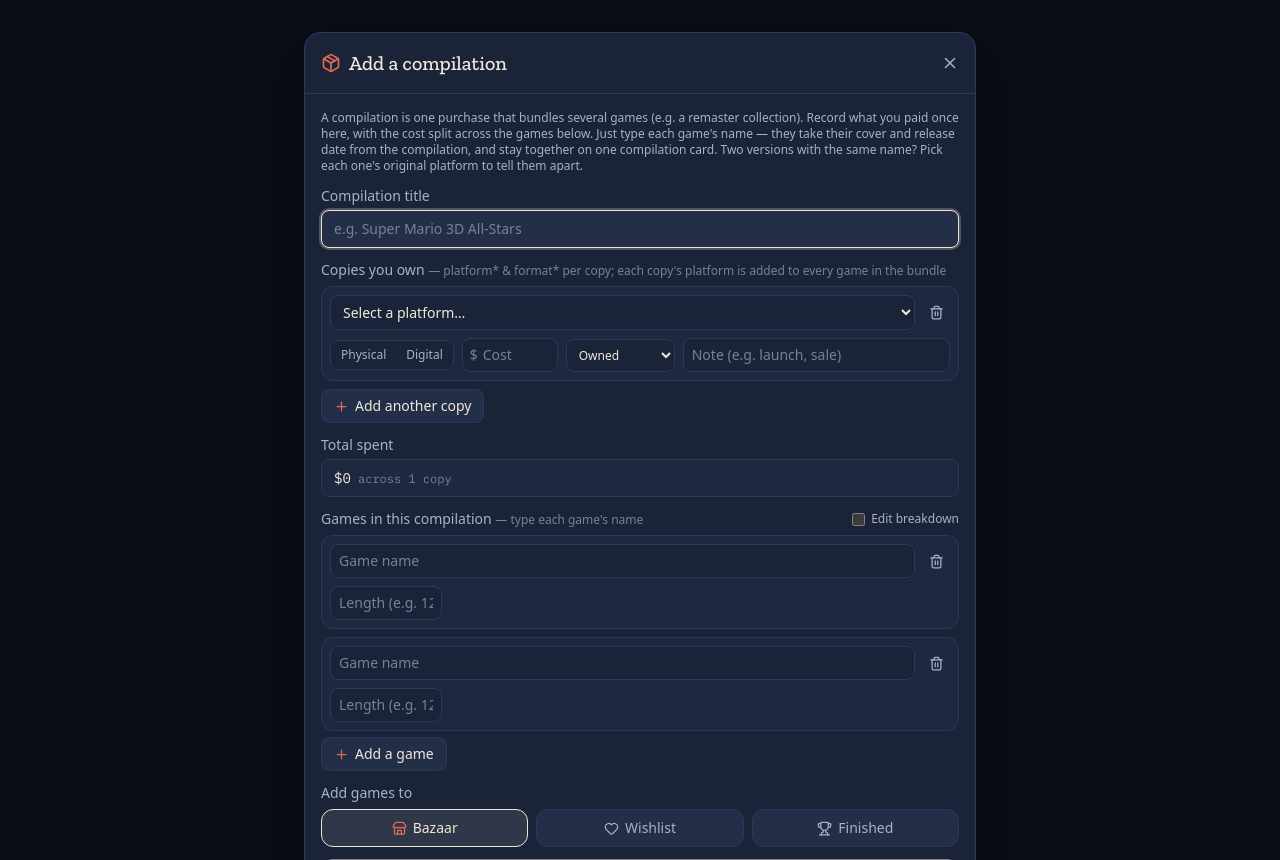
Test case: AddCompilationModal — suggest to the community › reflects a blocked (already-pending) submit in the button text
The image size is (1280, 860).
Type "Dupe" into the field with placeholder "e.g. Super Mario 3D All-Stars" at (640,229), box [321,210,959,248]
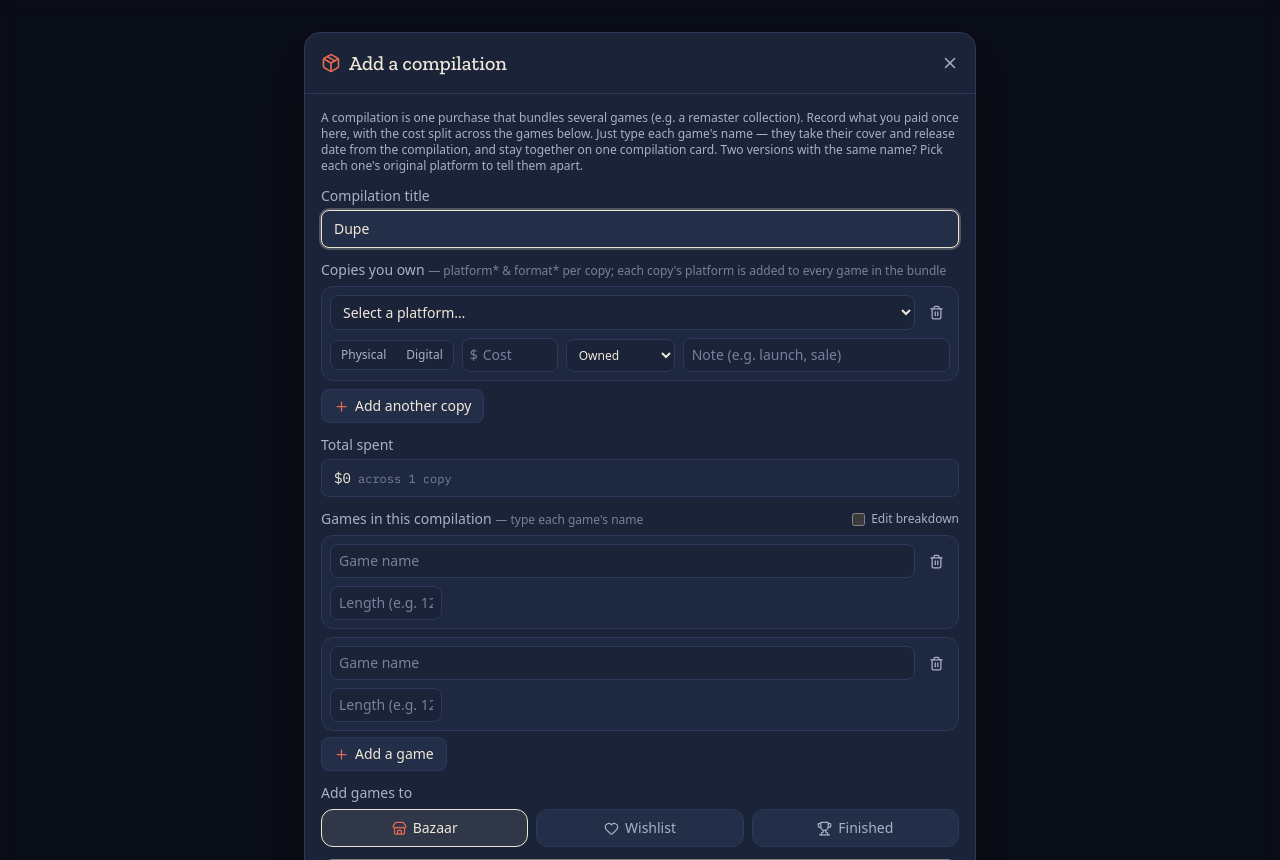
Type "Game A" into the 1st field labelled "Game name" at (622,561), box [330,544,915,578]
(page scrolled)
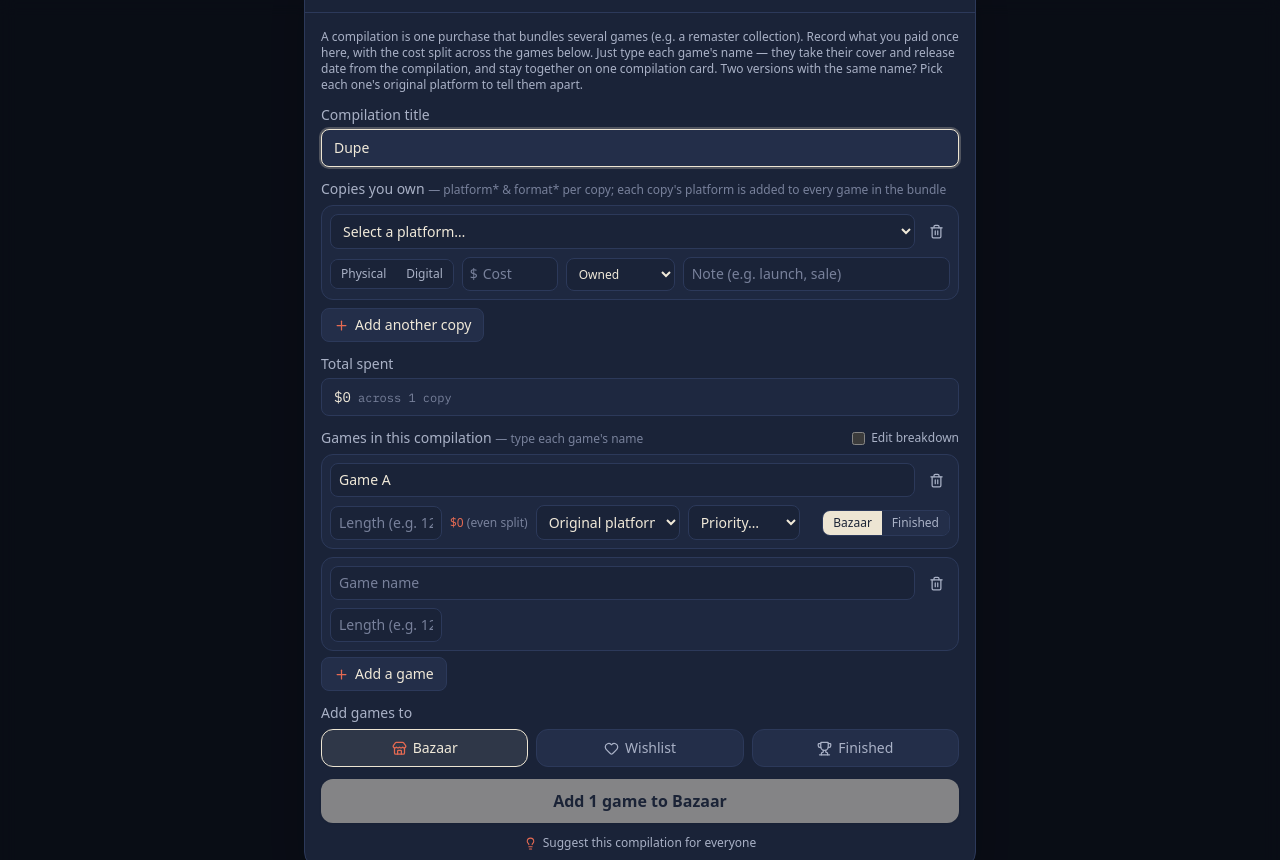
Click the button "Suggest this compilation for everyone" at (640,843), box [524,835,756,851]
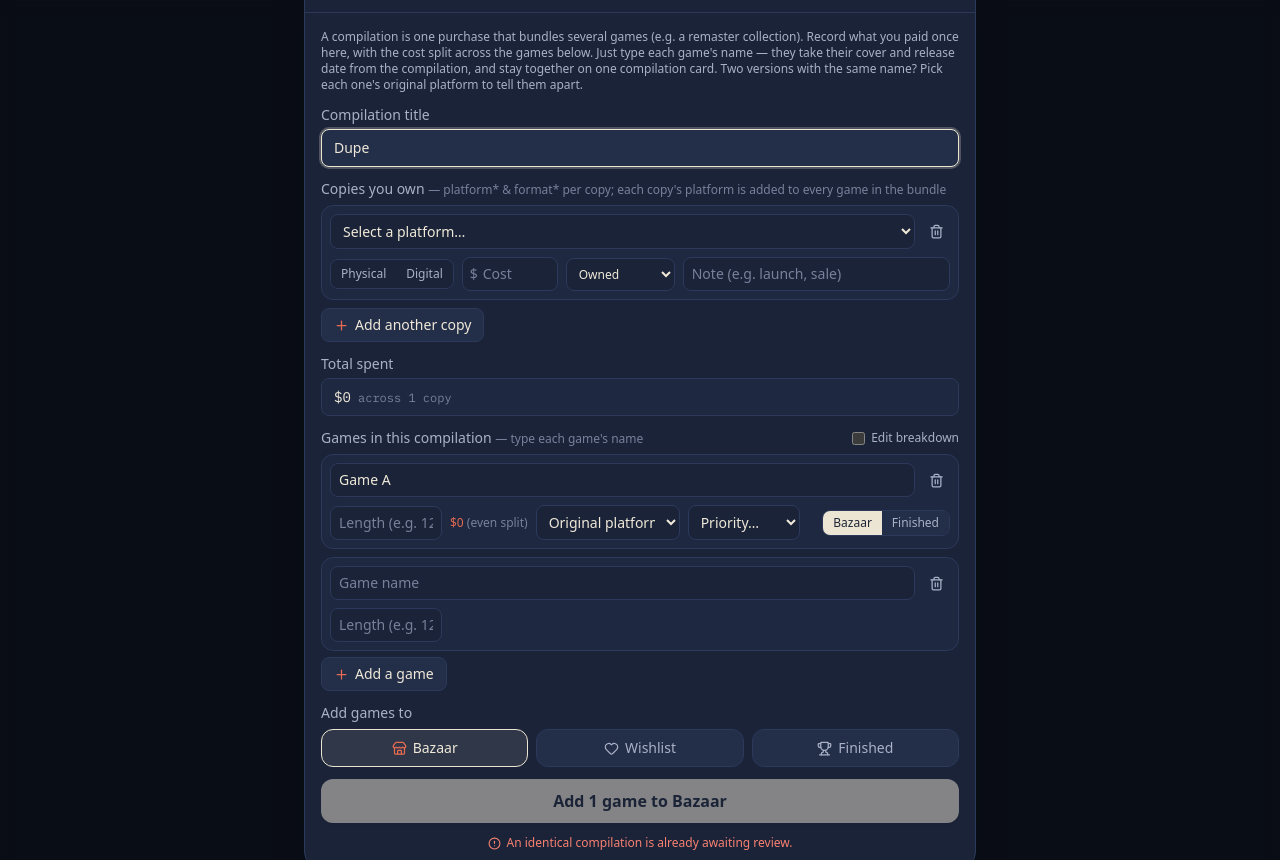
Result: the button "An identical compilation is already awaiting review." is shown at [488,835,792,851]
